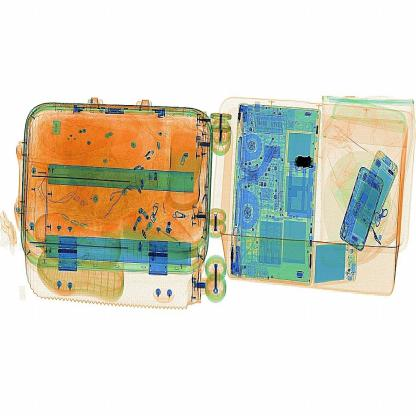scissors: (287, 146, 316, 180)
